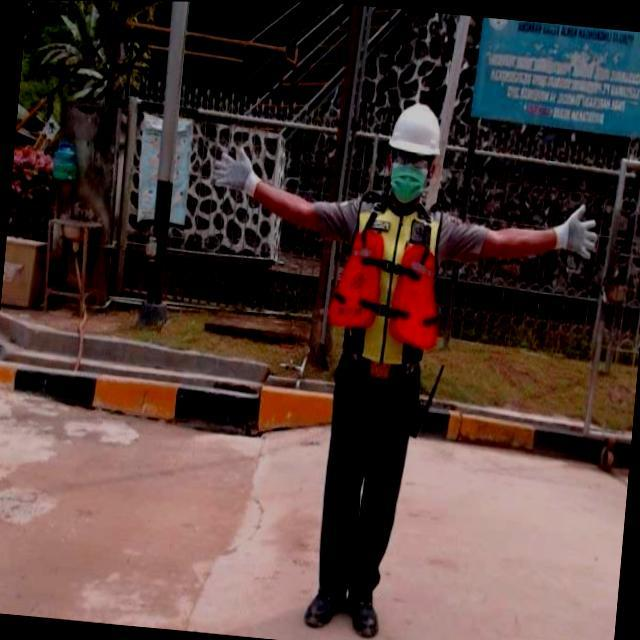goggles_on: (387, 148, 435, 171)
